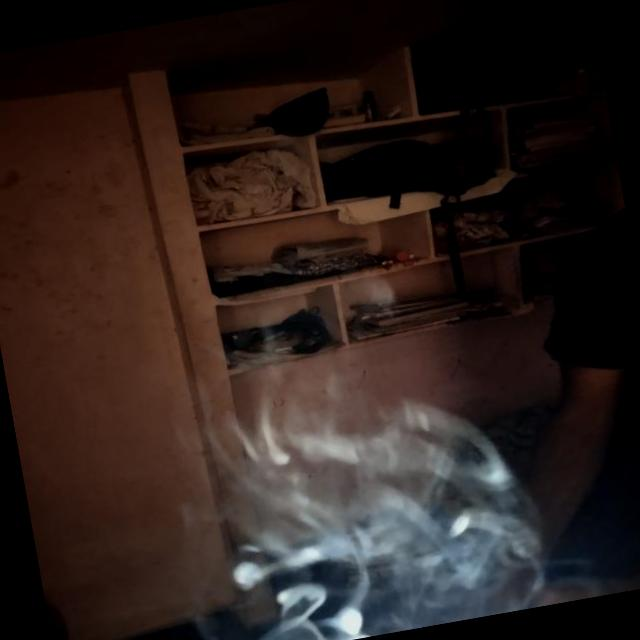smoke: (210, 362, 532, 628)
